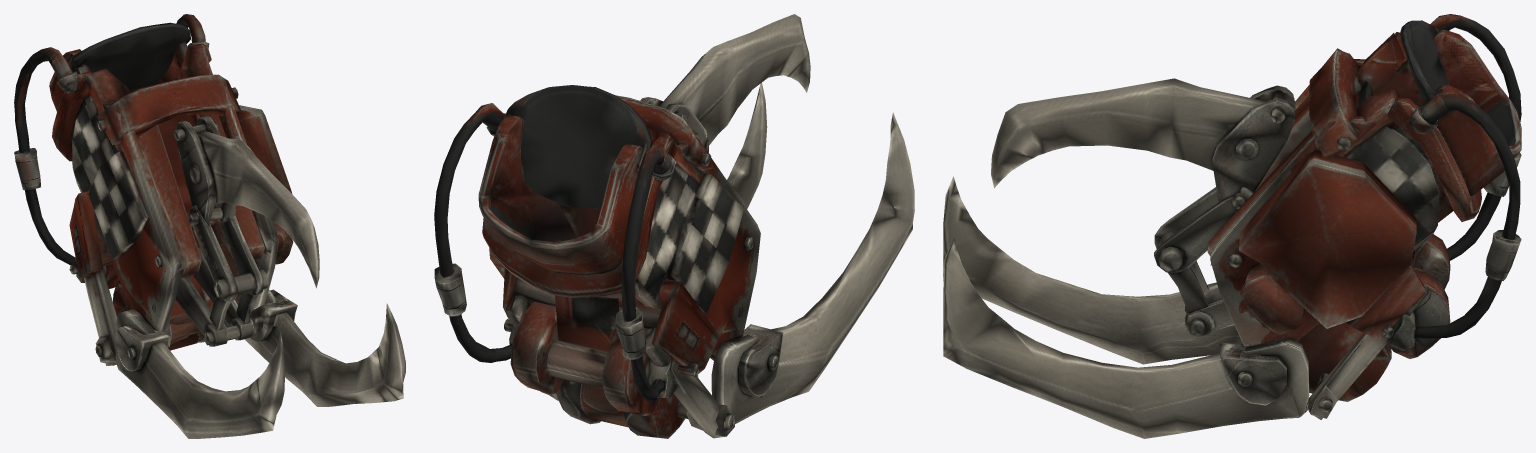
Rendered from PowerKlaw.fbx.
3 views of the same model, side by side, from view 1: azimuth 30°, elevation 25°; view 2: azimuth 150°, elevation 25°; view 3: azimuth 270°, elevation 25° (orthographic). The views are drawn at different scales.
Parts seen in each view (by area): view 1: mesh_node; view 2: mesh_node; view 3: mesh_node.
Part boxes in pixels (left/top/right/bottom): mesh_node: left=14, top=14, right=405, bottom=438; mesh_node: left=434, top=14, right=914, bottom=438; mesh_node: left=943, top=14, right=1521, bottom=438.
Size of the model in its own units: 39.65 by 70.51 by 100.
1 material, 1 textured.
